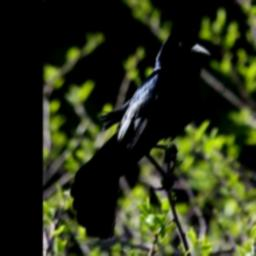Crow: (71, 26, 212, 237)
